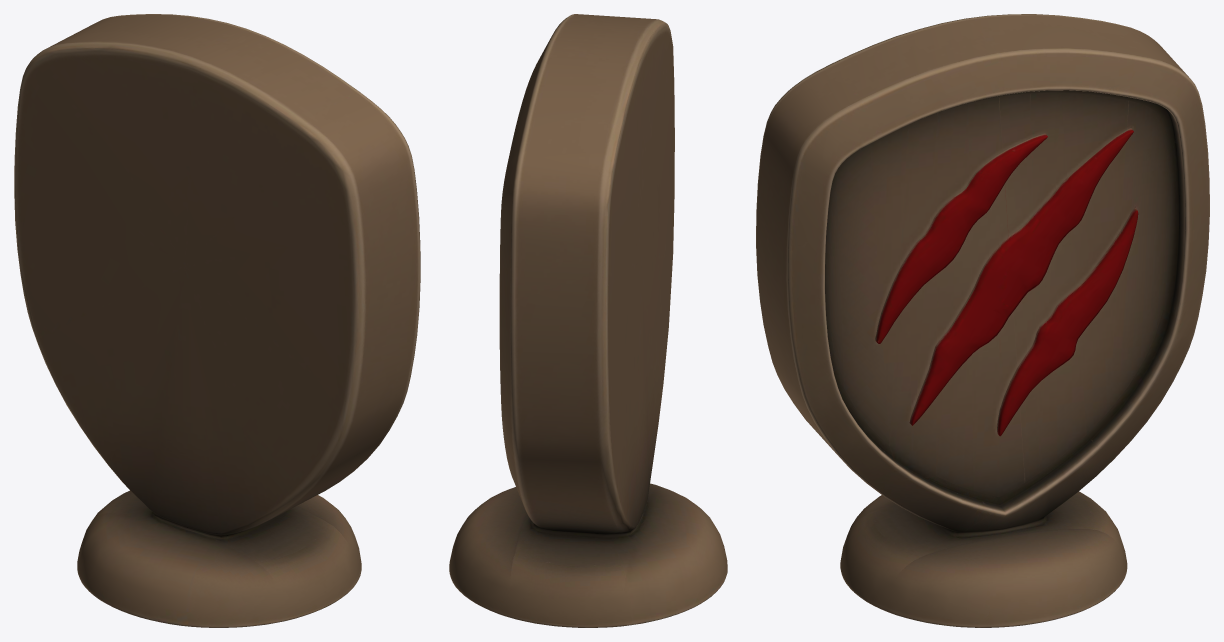
File: fear-medal.glb
3 views of the same model, side by side, from view 1: azimuth 30°, elevation 25°; view 2: azimuth 150°, elevation 25°; view 3: azimuth 270°, elevation 25° (orthographic). The views are drawn at different scales.
Visible parts, largest first — view 1: tripo_node_7ee48b5f-de88-4b06-9e6d-f0e2973753bb; view 2: tripo_node_7ee48b5f-de88-4b06-9e6d-f0e2973753bb; view 3: tripo_node_7ee48b5f-de88-4b06-9e6d-f0e2973753bb.
Part boxes in pixels (x1,y1,x2,y2): tripo_node_7ee48b5f-de88-4b06-9e6d-f0e2973753bb: [14, 14, 420, 627]; tripo_node_7ee48b5f-de88-4b06-9e6d-f0e2973753bb: [449, 14, 727, 627]; tripo_node_7ee48b5f-de88-4b06-9e6d-f0e2973753bb: [756, 14, 1209, 627].
Bounding box in the file's own units: 0.4901 × 0.9995 × 0.7754.
Materials: 1 (1 with a texture image).
